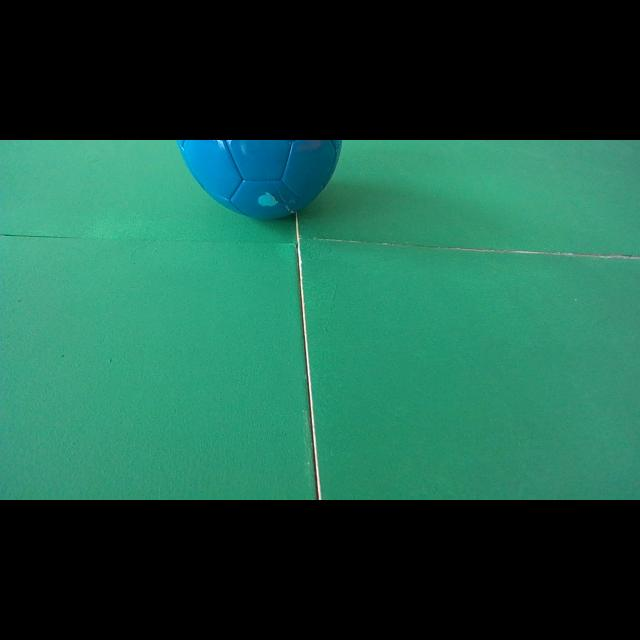B: (179, 140, 341, 219)
